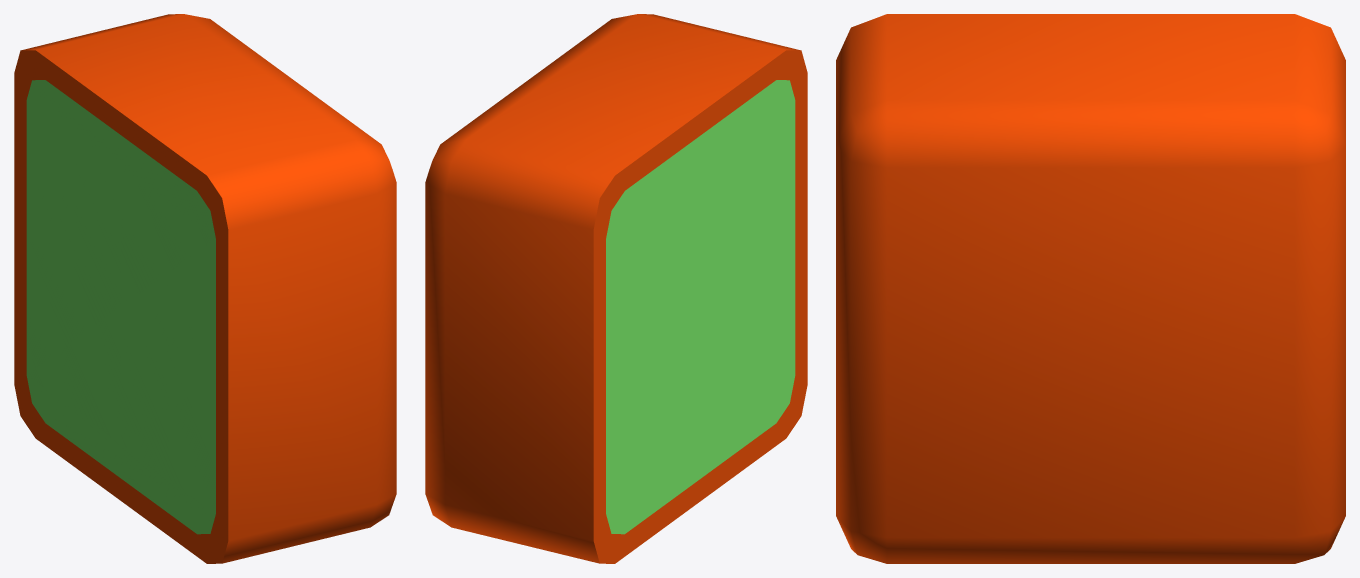
Rendered from cube_edge.fbx.
3 views of the same model, side by side, from view 1: azimuth 30°, elevation 25°; view 2: azimuth 150°, elevation 25°; view 3: azimuth 270°, elevation 25° (orthographic). The views are drawn at different scales.
Parts seen in each view (by area): view 1: Cube; view 2: Cube; view 3: Cube.
Boxes of the visible parts, bbox=[...] form: Cube: bbox=[14, 14, 396, 563]; Cube: bbox=[425, 14, 807, 563]; Cube: bbox=[836, 14, 1345, 563].
Size of the model in its own units: 90 by 180 by 180.
